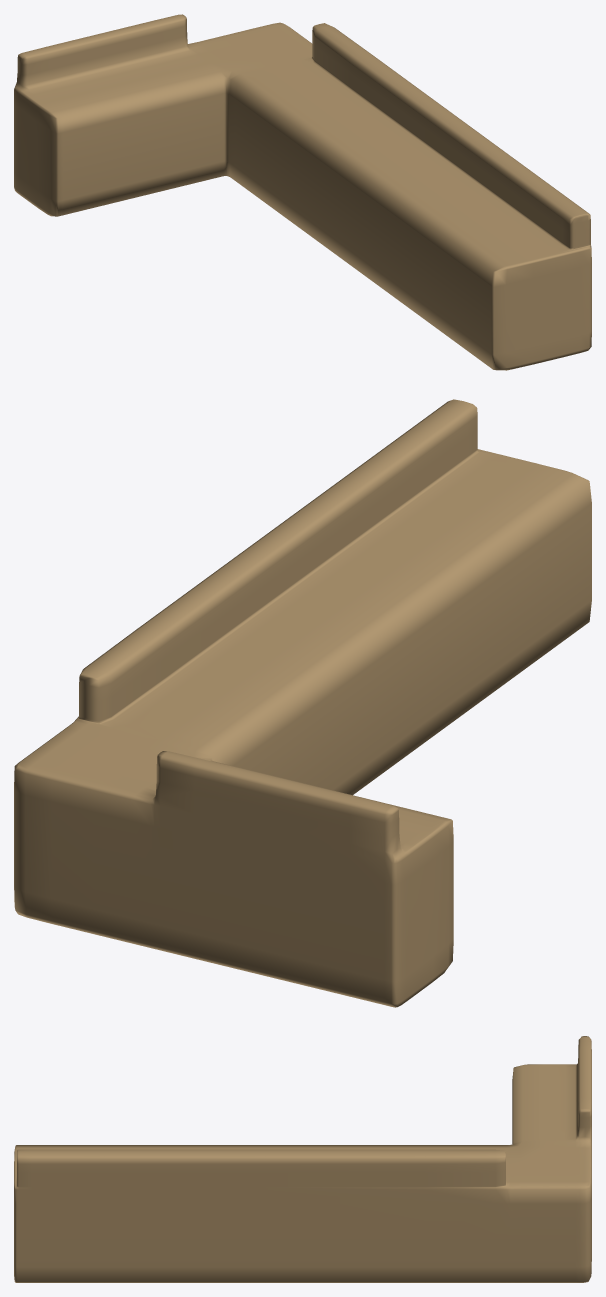
File: Reception_Desk.fbx
3 renders of one model, top to bottom at view 1: azimuth 30°, elevation 25°; view 2: azimuth 150°, elevation 25°; view 3: azimuth 270°, elevation 25°, orthographic. The views are drawn at different scales.
Visible parts, largest first — view 1: Cube.010; view 2: Cube.010; view 3: Cube.010.
Boxes of the visible parts, x1,y1,x2,y2 form: Cube.010: (14, 14, 591, 370); Cube.010: (14, 399, 591, 1007); Cube.010: (14, 1036, 591, 1282).
Bounding box in the file's own units: 462 × 223 × 913.
